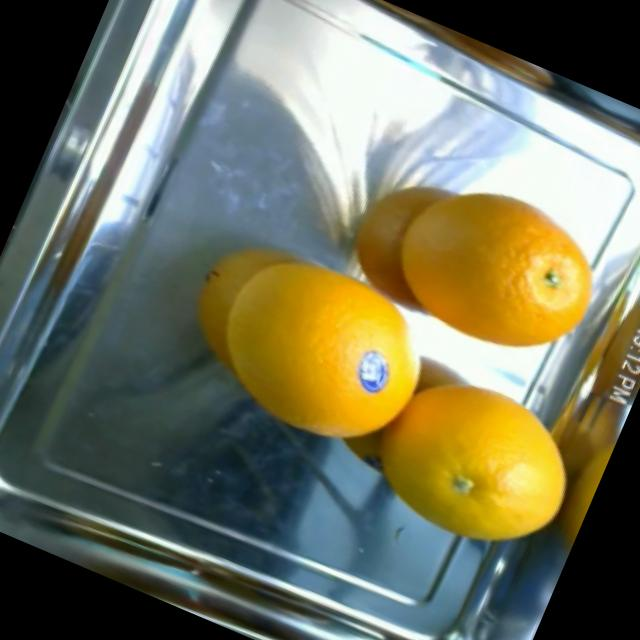Fruit: (360, 143, 636, 400)
